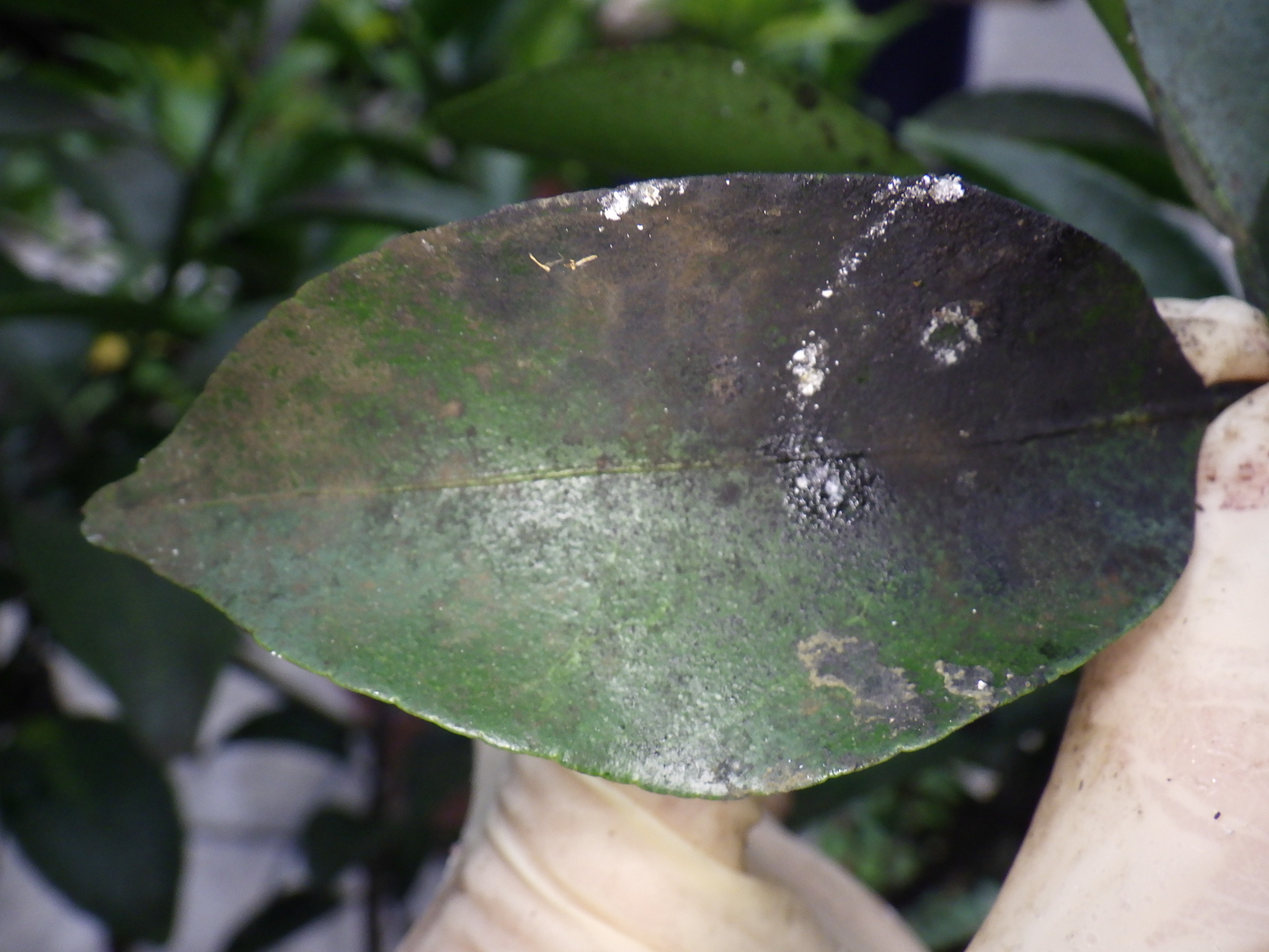Sooty_Mold: (84, 173, 1237, 796)
